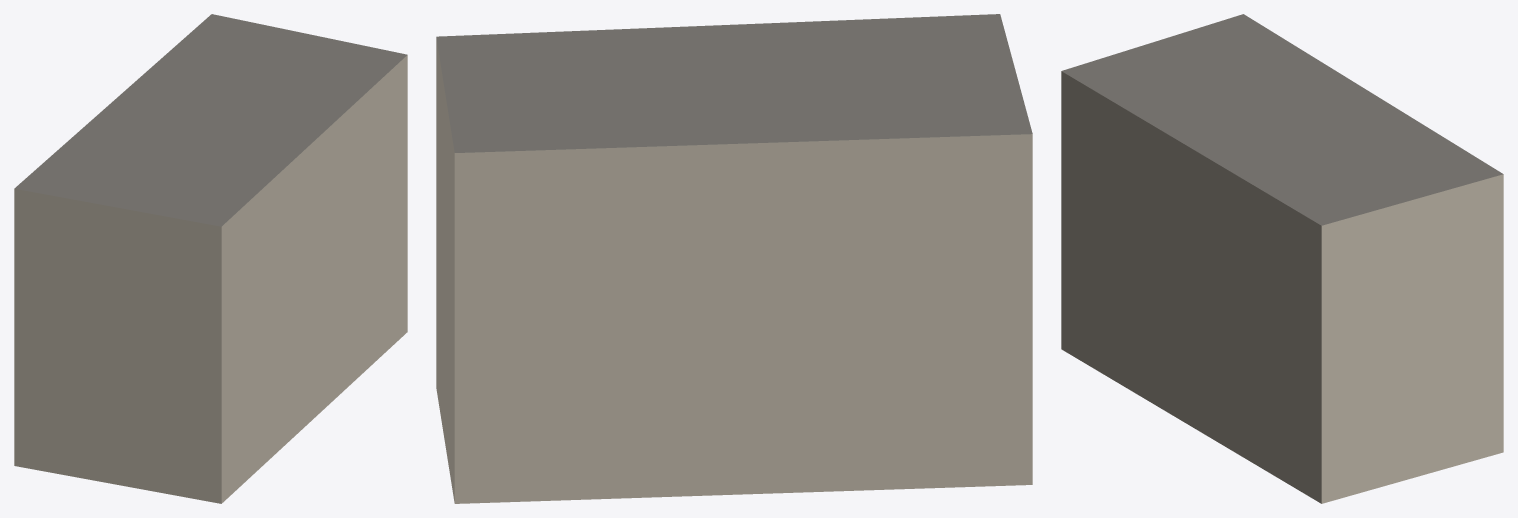
3 views of the same model, side by side, from view 1: azimuth 30°, elevation 25°; view 2: azimuth 150°, elevation 25°; view 3: azimuth 270°, elevation 25° (orthographic). The views are drawn at different scales.
Parts seen in each view (by area): view 1: HP-w300653864; view 2: HP-w300653864; view 3: HP-w300653864.
Boxes of the visible parts, bbox=[...] form: HP-w300653864: bbox=[14, 14, 407, 503]; HP-w300653864: bbox=[436, 14, 1032, 503]; HP-w300653864: bbox=[1061, 14, 1503, 503].
Size of the model in its own units: 29.39 by 18 by 25.94.
